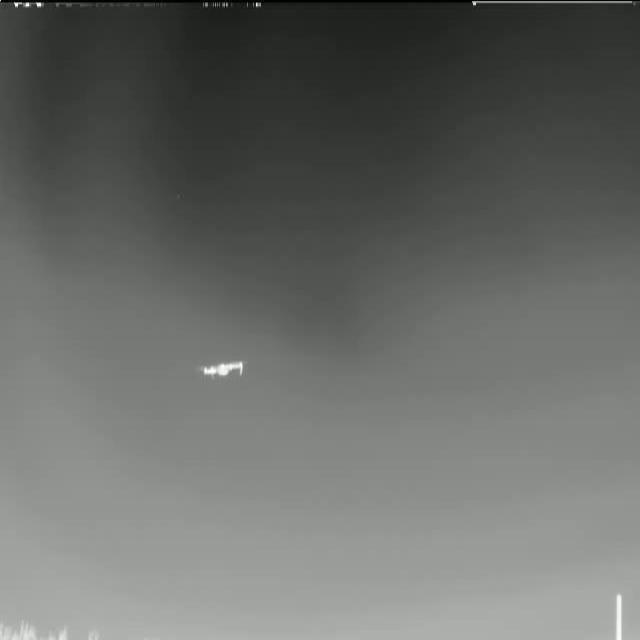DRONE: (187, 350, 250, 390)
